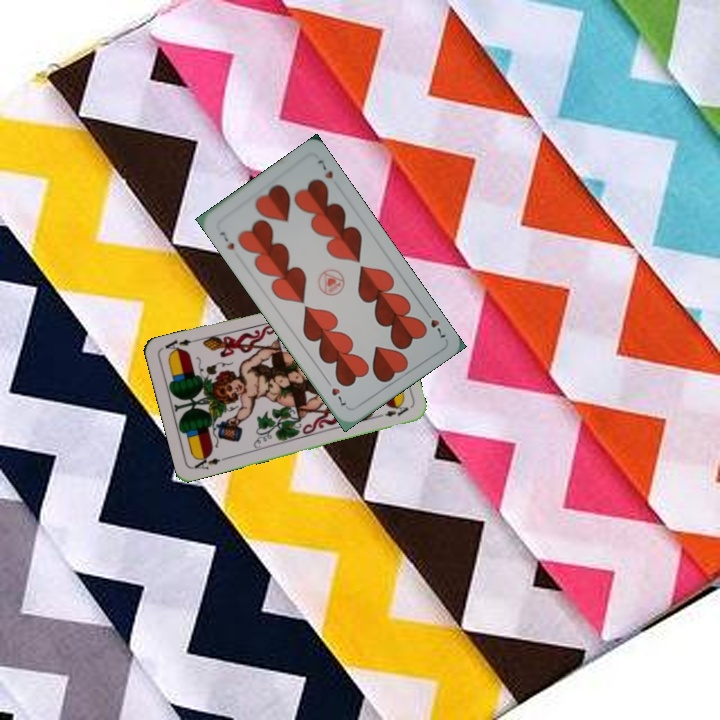EA: (190, 451, 229, 472)
H7: (420, 306, 448, 341), (216, 227, 237, 252)
